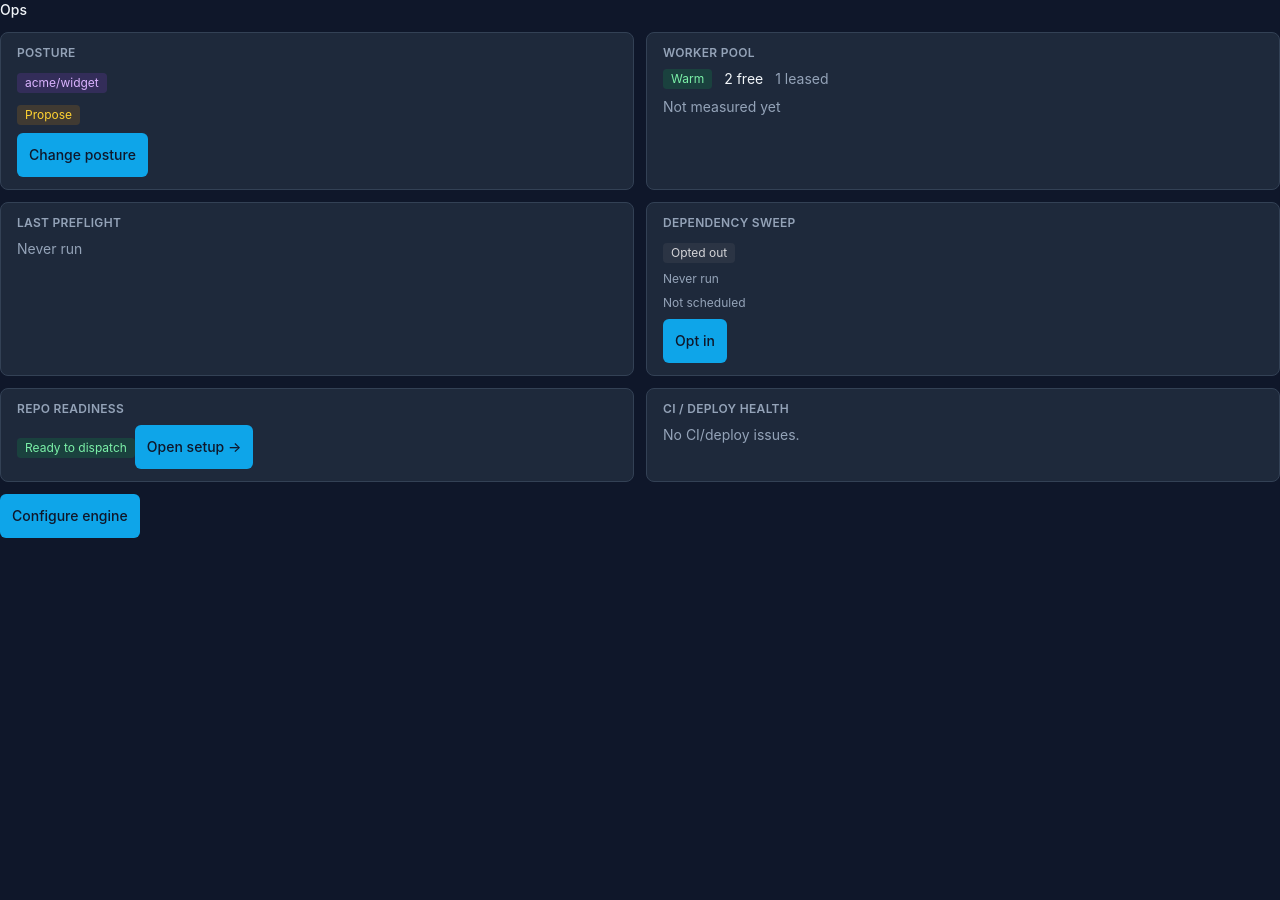
Test: EngineOpsPanel › closes the posture confirm modal on Cancel
Click the button with test id "engine-ops-posture-change-button". click: click(82, 155)
box: [17,133,148,177]
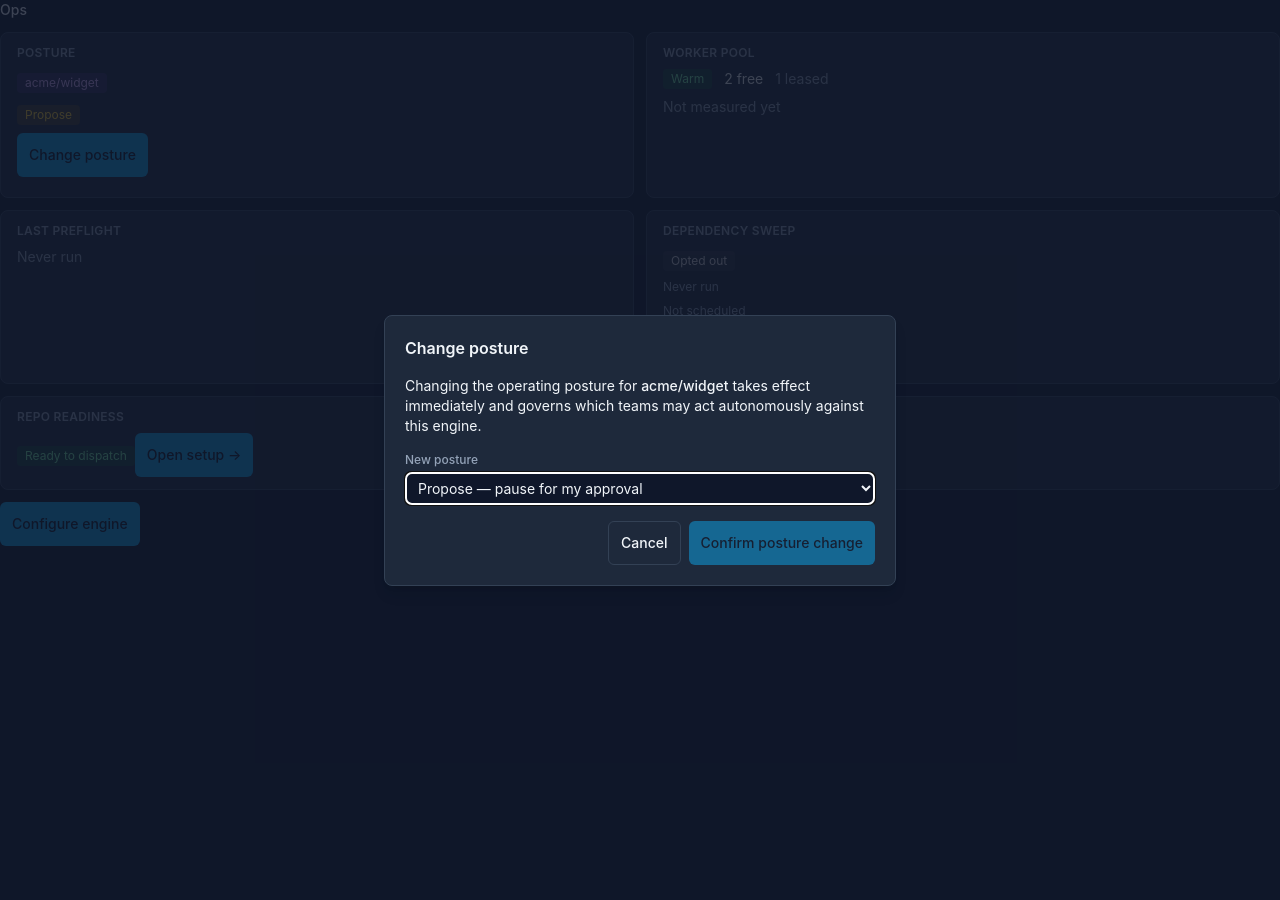
Click the button "Cancel". click: click(644, 542)
box: [608,520,680,564]
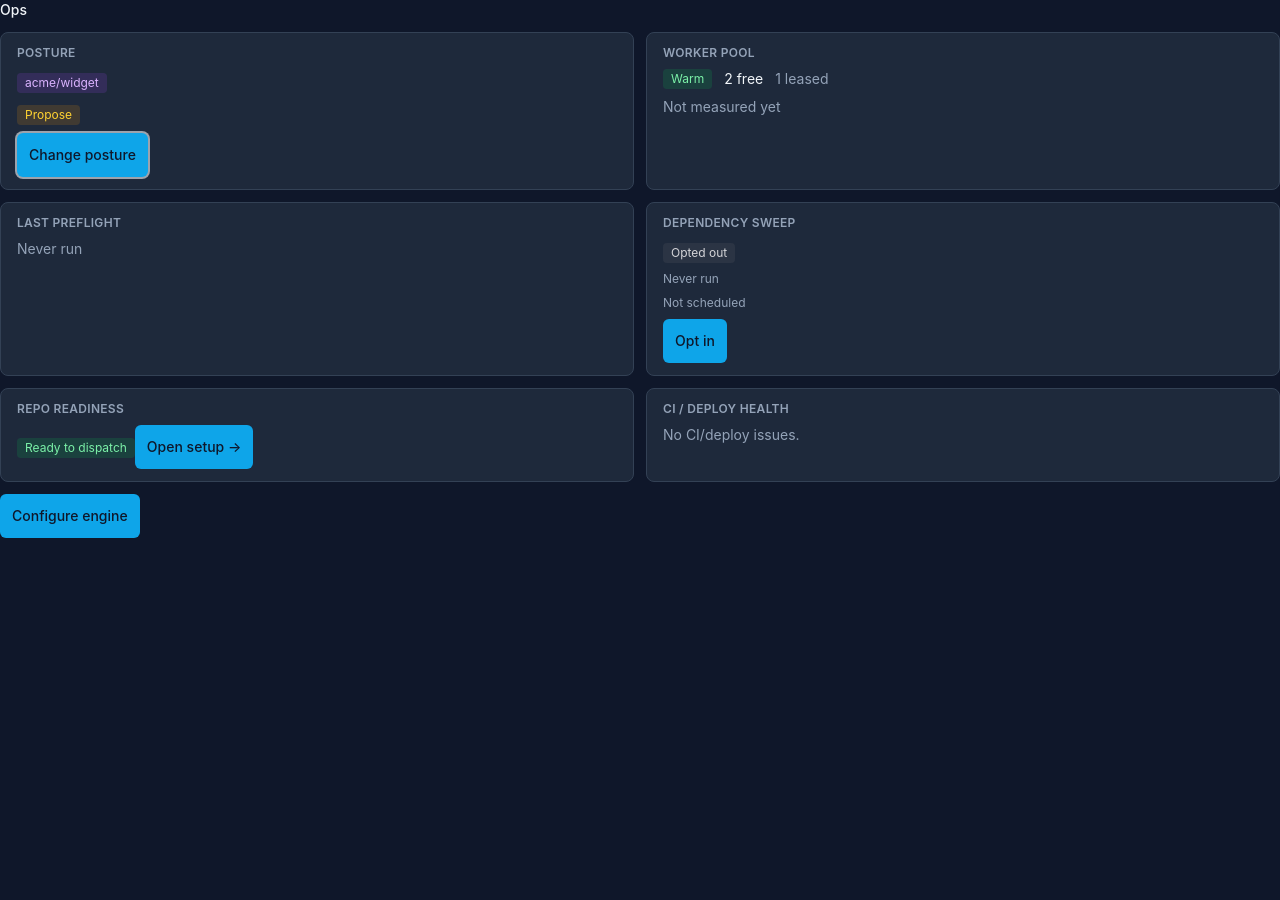
Check: the dialog with test id "posture-confirm-dialog" is gone
